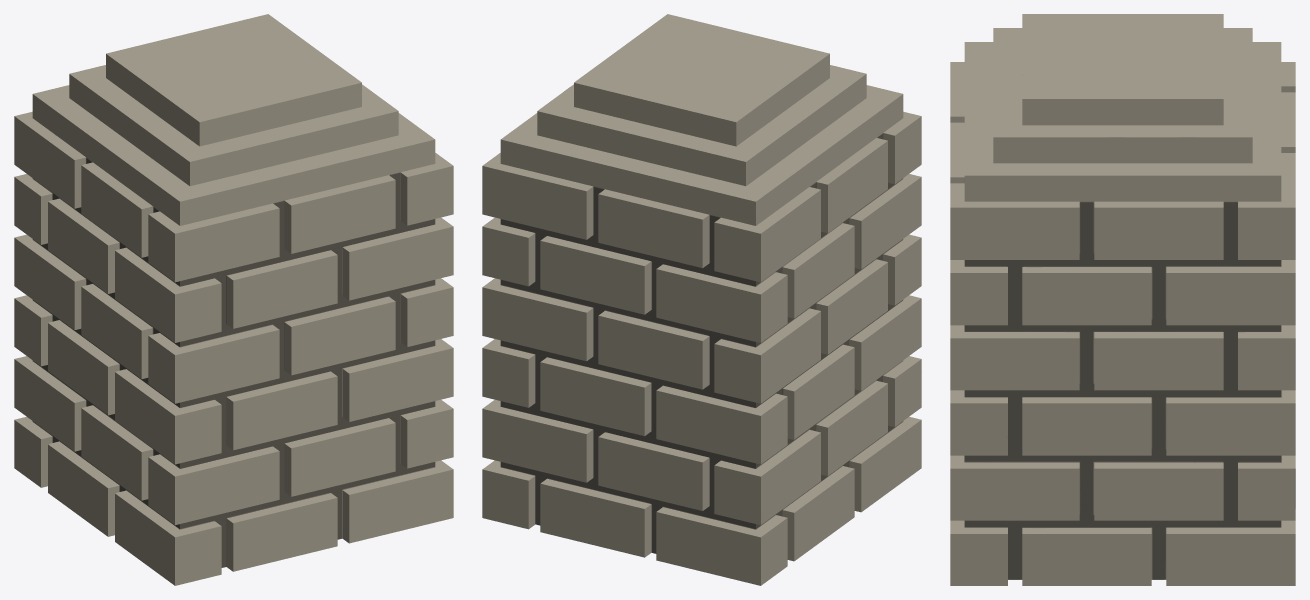
Rendered from Wall_2.fbx.
The picture shows the model from 3 angles, left to right: view 1: azimuth 30°, elevation 25°; view 2: azimuth 150°, elevation 25°; view 3: azimuth 270°, elevation 25°; orthographic projection. The views are drawn at different scales.
Visible parts, largest first — view 1: Walls-4Cleaned; view 2: Walls-4Cleaned; view 3: Walls-4Cleaned.
Boxes of the visible parts, <box> form: Walls-4Cleaned: <box>14,14,453,585</box>; Walls-4Cleaned: <box>482,14,921,585</box>; Walls-4Cleaned: <box>950,14,1295,585</box>.
Size of the model in its own units: 240 by 350 by 240.
